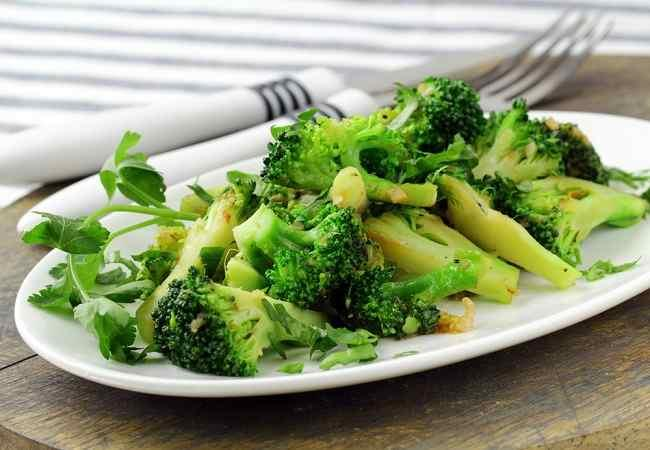buah_sayur_lainnya: (277, 132, 559, 268)
